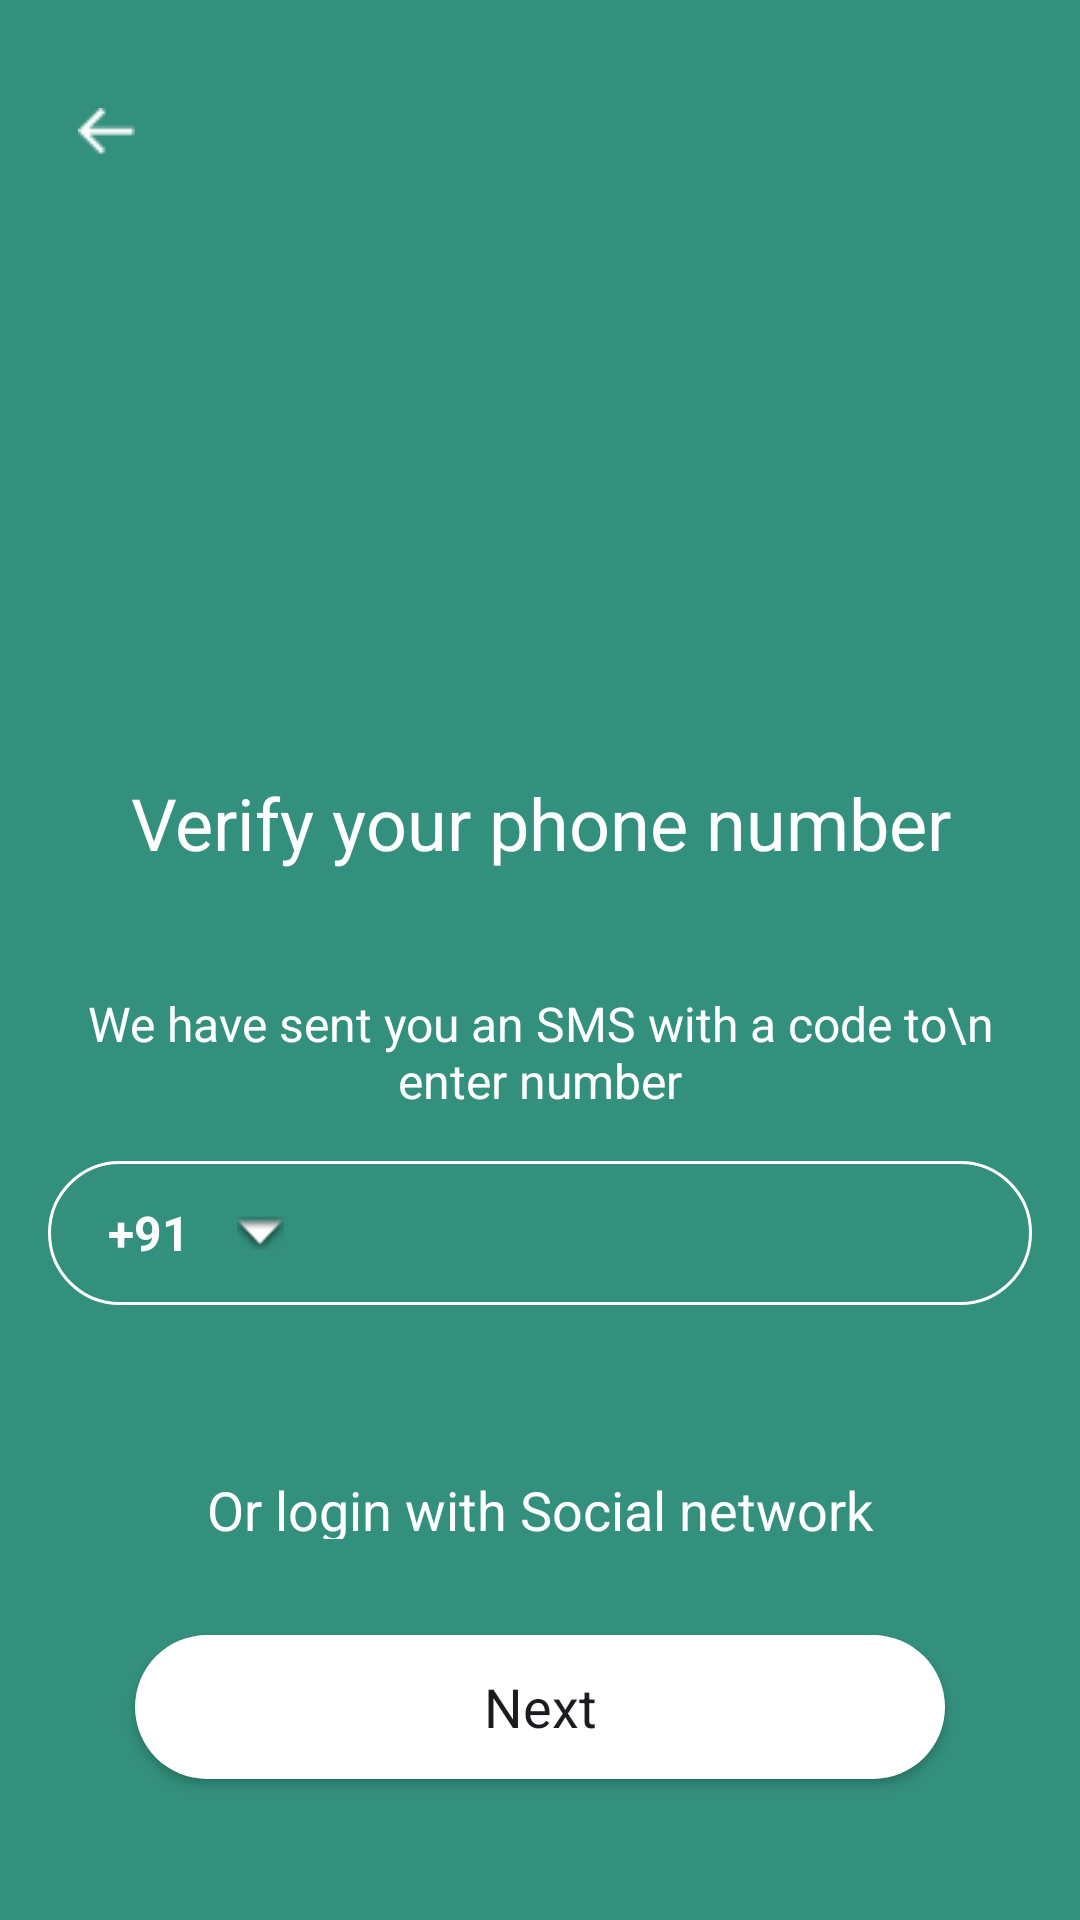

Where to tap for icons on this 1080 x 1920 app screen, as [x,y]:
arrow down float: [260,1232]
Back: [106,131]
